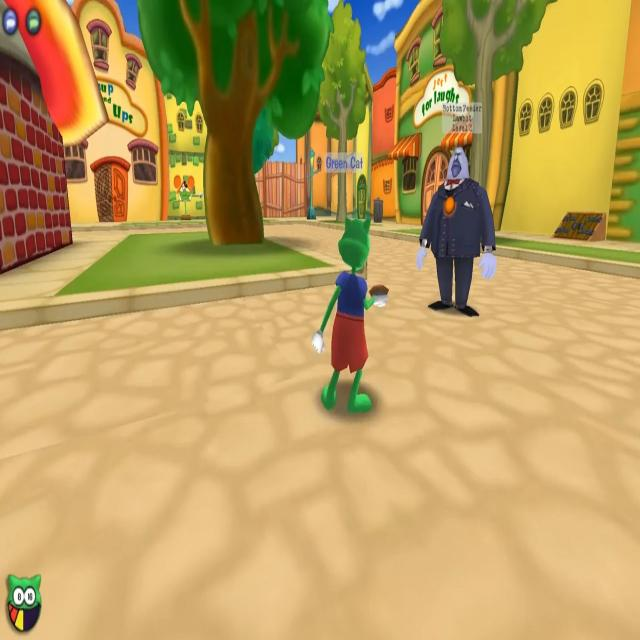bottomfeeder: (414, 102, 501, 318)
